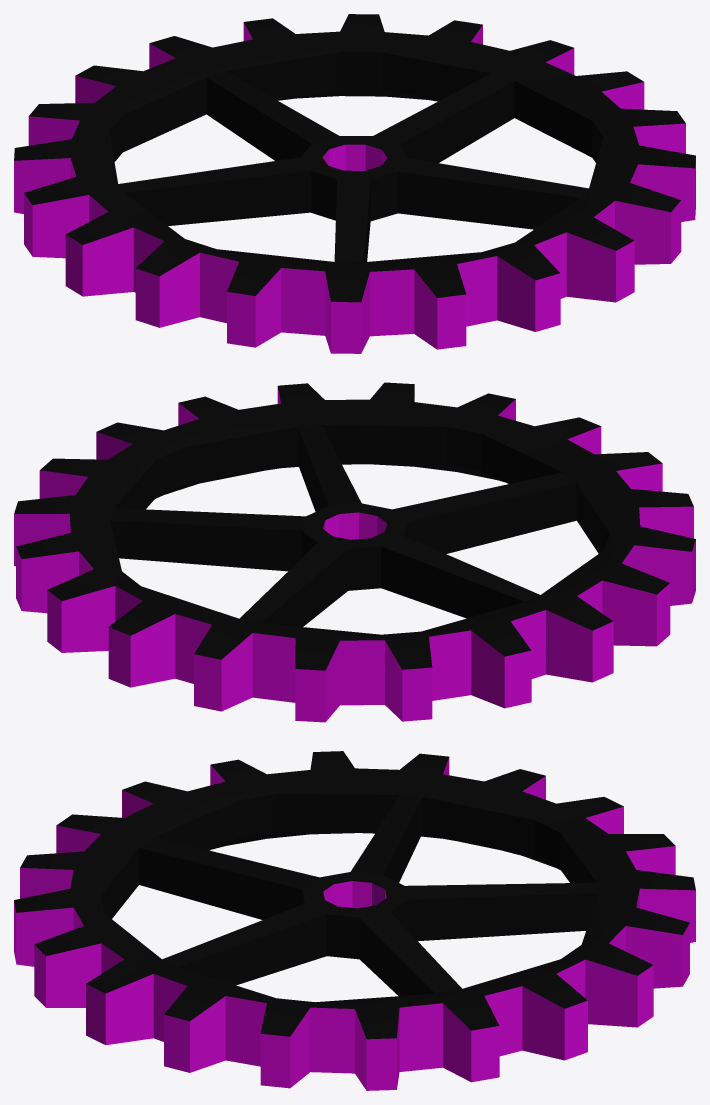
The model's file is D2GearV2.fbx.
The picture shows the model from 3 angles, top to bottom: view 1: azimuth 30°, elevation 25°; view 2: azimuth 150°, elevation 25°; view 3: azimuth 270°, elevation 25°; orthographic projection.
Visible parts, largest first — view 1: D2GearV2; view 2: D2GearV2; view 3: D2GearV2.
Boxes of the visible parts, x1,y1,x2,y2 form: D2GearV2: (14,14,695,353); D2GearV2: (14,382,695,722); D2GearV2: (14,751,695,1090).
Bounding box in the file's own units: 4.79 × 0.5 × 4.79.
